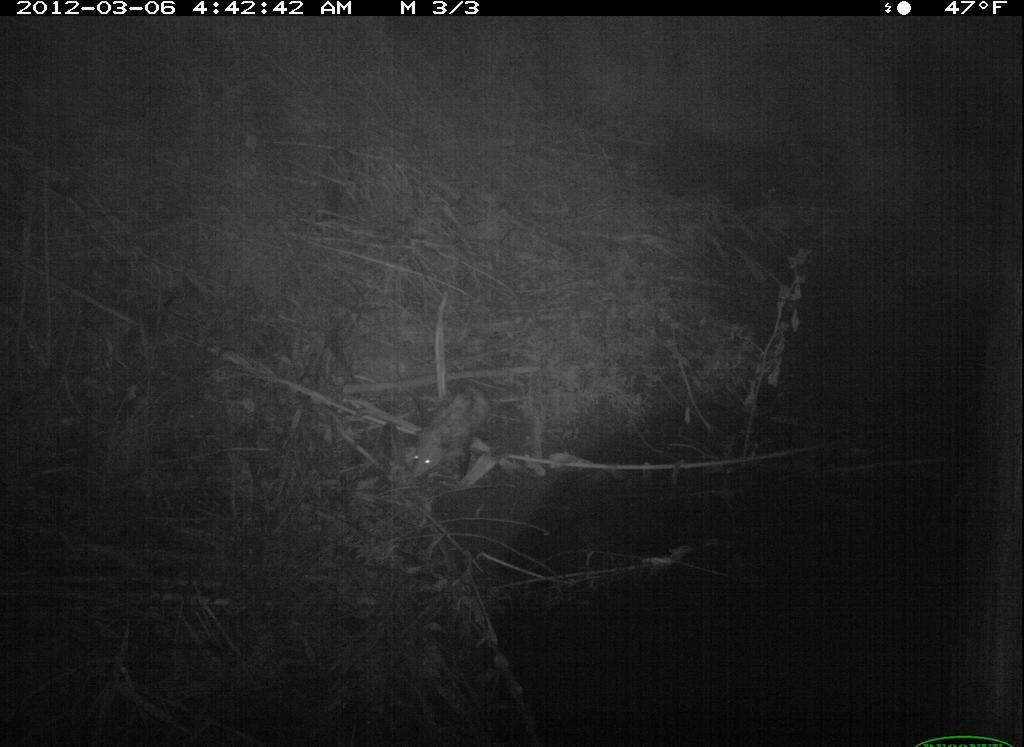opossum: (402, 360, 519, 507)
